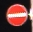No entry: (6, 5, 27, 27)
